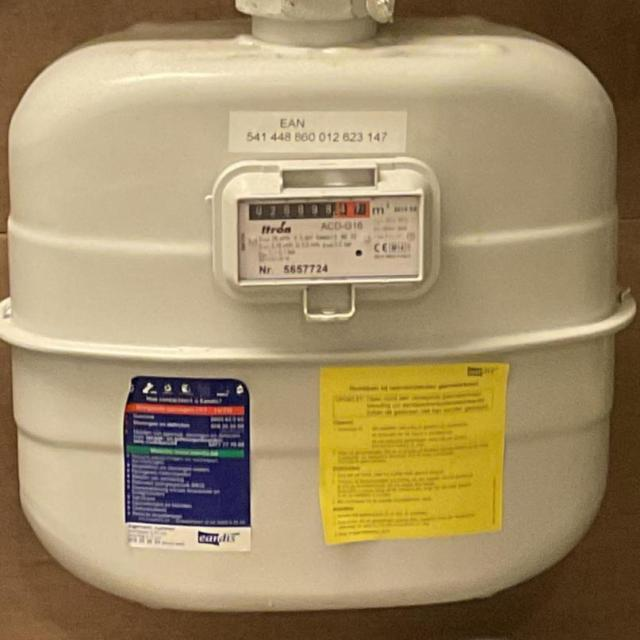gaz_meter: (238, 195, 425, 281)
indication: (246, 197, 370, 223)
